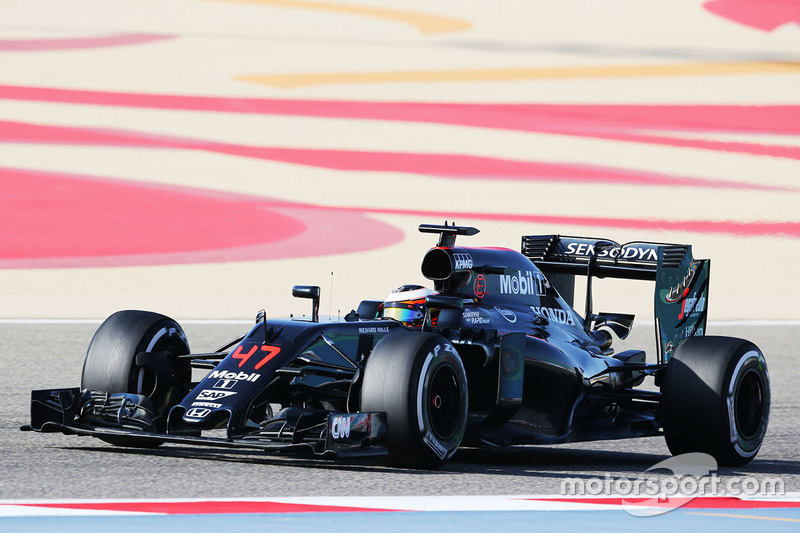F1 Car: (26, 214, 774, 472)
